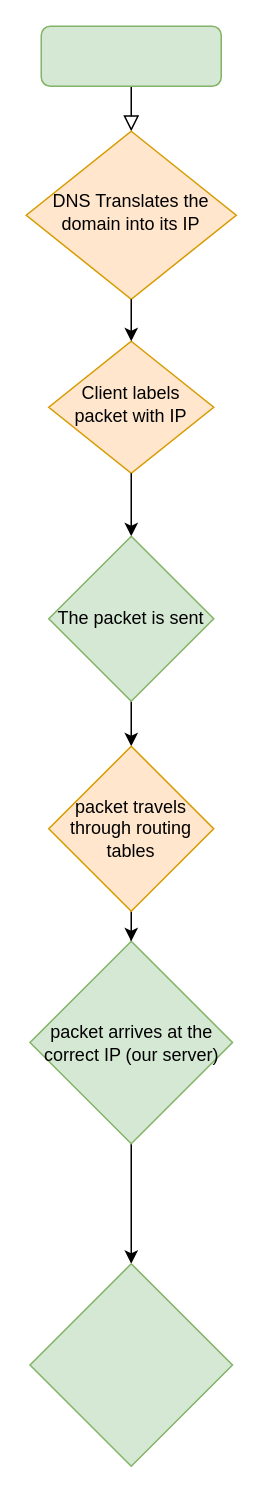
This 263x1493 diagram has some shape labels left out. The centre of each missing label's shape, as x and y in pixels:
"Connection is established between client and server" goes at (130,1364).
"User searches for domain" goes at (130,55).
